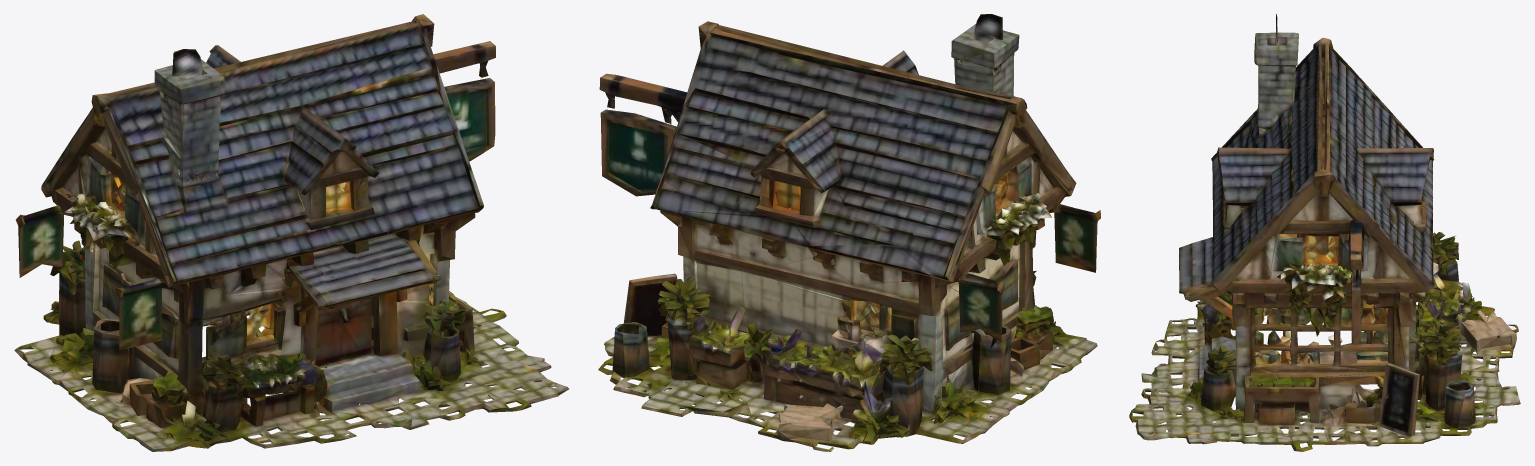
Rendered from apothecaryBuilding.glb.
3 renders of one model, left to right at view 1: azimuth 30°, elevation 25°; view 2: azimuth 150°, elevation 25°; view 3: azimuth 270°, elevation 25°, orthographic. The views are drawn at different scales.
Parts seen in each view (by area): view 1: geometry_0; view 2: geometry_0; view 3: geometry_0.
Boxes of the visible parts, x1,y1,x2,y2 form: geometry_0: (14, 14, 568, 451); geometry_0: (598, 14, 1100, 451); geometry_0: (1129, 14, 1520, 451).
Size of the model in its own units: 0.9976 by 0.7744 by 0.9092.
1 material, 1 textured.
